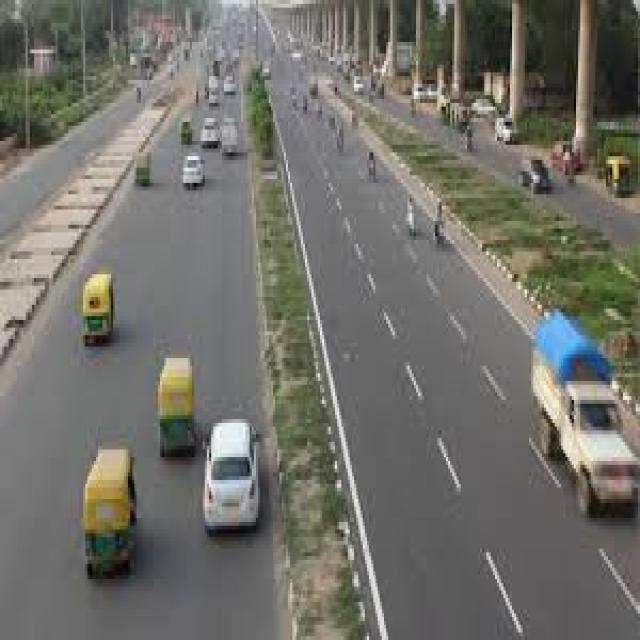Motorbikes: (433, 198, 446, 252), (365, 145, 380, 179), (405, 191, 416, 236), (337, 122, 346, 152)
Passenger Car: (83, 442, 139, 575), (207, 419, 260, 533), (154, 358, 196, 453), (81, 270, 115, 343), (516, 156, 550, 191), (181, 152, 205, 187), (132, 152, 154, 183)
Pickup Trucks: (529, 308, 640, 530)
